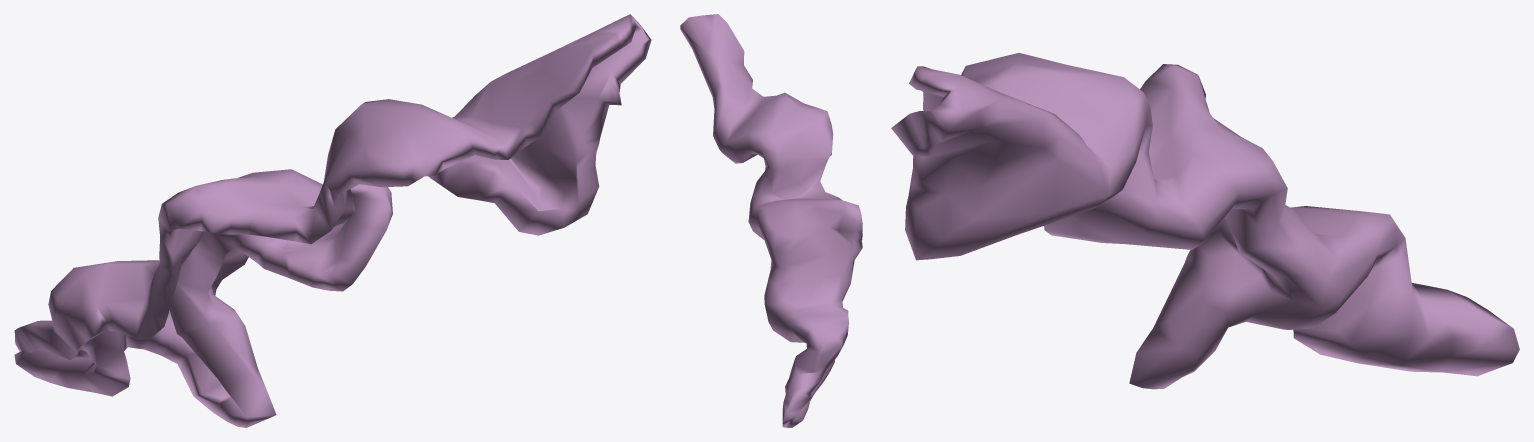
3 renders of one model, left to right at view 1: azimuth 30°, elevation 25°; view 2: azimuth 150°, elevation 25°; view 3: azimuth 270°, elevation 25°, orthographic. The views are drawn at different scales.
Parts seen in each view (by area): view 1: 右侧中央沟; view 2: 右侧中央沟; view 3: 右侧中央沟.
Boxes of the visible parts, bbox=[...] form: 右侧中央沟: bbox=[14, 14, 651, 427]; 右侧中央沟: bbox=[680, 14, 862, 427]; 右侧中央沟: bbox=[891, 53, 1519, 389].
Size of the model in its own units: 0.0756 by 0.0713 by 0.0783.
